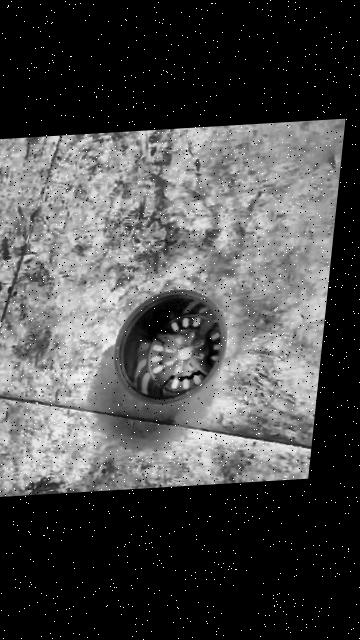pot: (109, 288, 231, 408)
